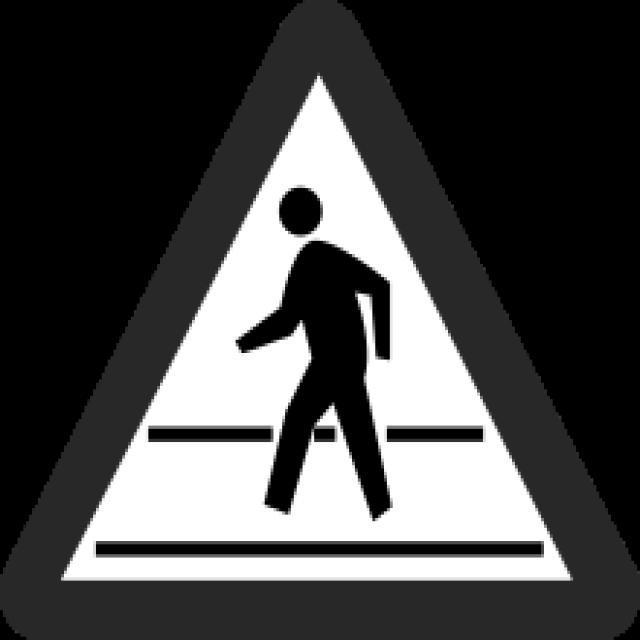pedestrian crossing: (34, 21, 606, 621)
